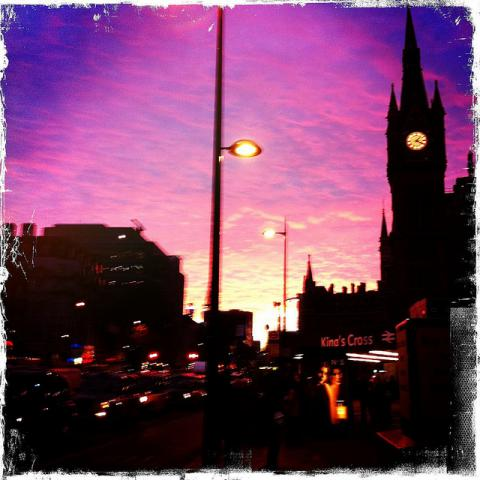car: (0, 370, 81, 442), (71, 371, 144, 426), (143, 392, 171, 418), (184, 391, 208, 399)
